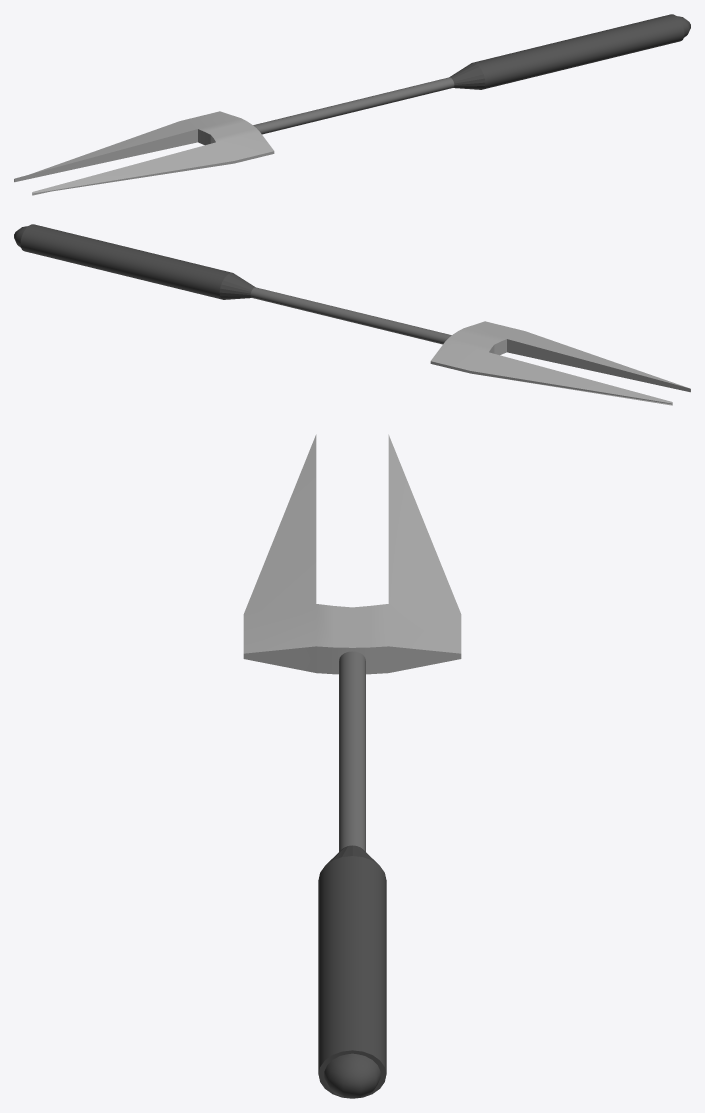
File: MeatForkModel.fbx
The picture shows the model from 3 angles, top to bottom: view 1: azimuth 30°, elevation 25°; view 2: azimuth 150°, elevation 25°; view 3: azimuth 270°, elevation 25°; orthographic projection. The views are drawn at different scales.
Parts seen in each view (by area): view 1: MeatForkModel; view 2: MeatForkModel; view 3: MeatForkModel.
Part boxes in pixels (box(x1,y1,x2,y2)): MeatForkModel: box(14, 14, 690, 195); MeatForkModel: box(14, 224, 690, 405); MeatForkModel: box(243, 434, 461, 1098).
Bounding box in the file's own units: 70.99 × 2.47 × 10.06.
